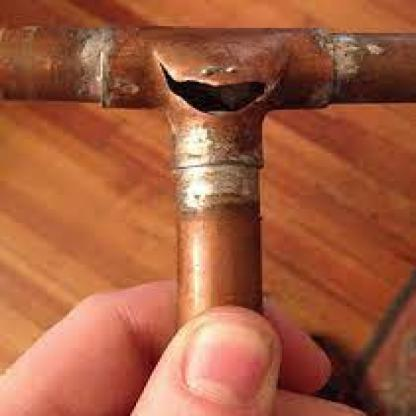burst: (151, 56, 279, 124)
